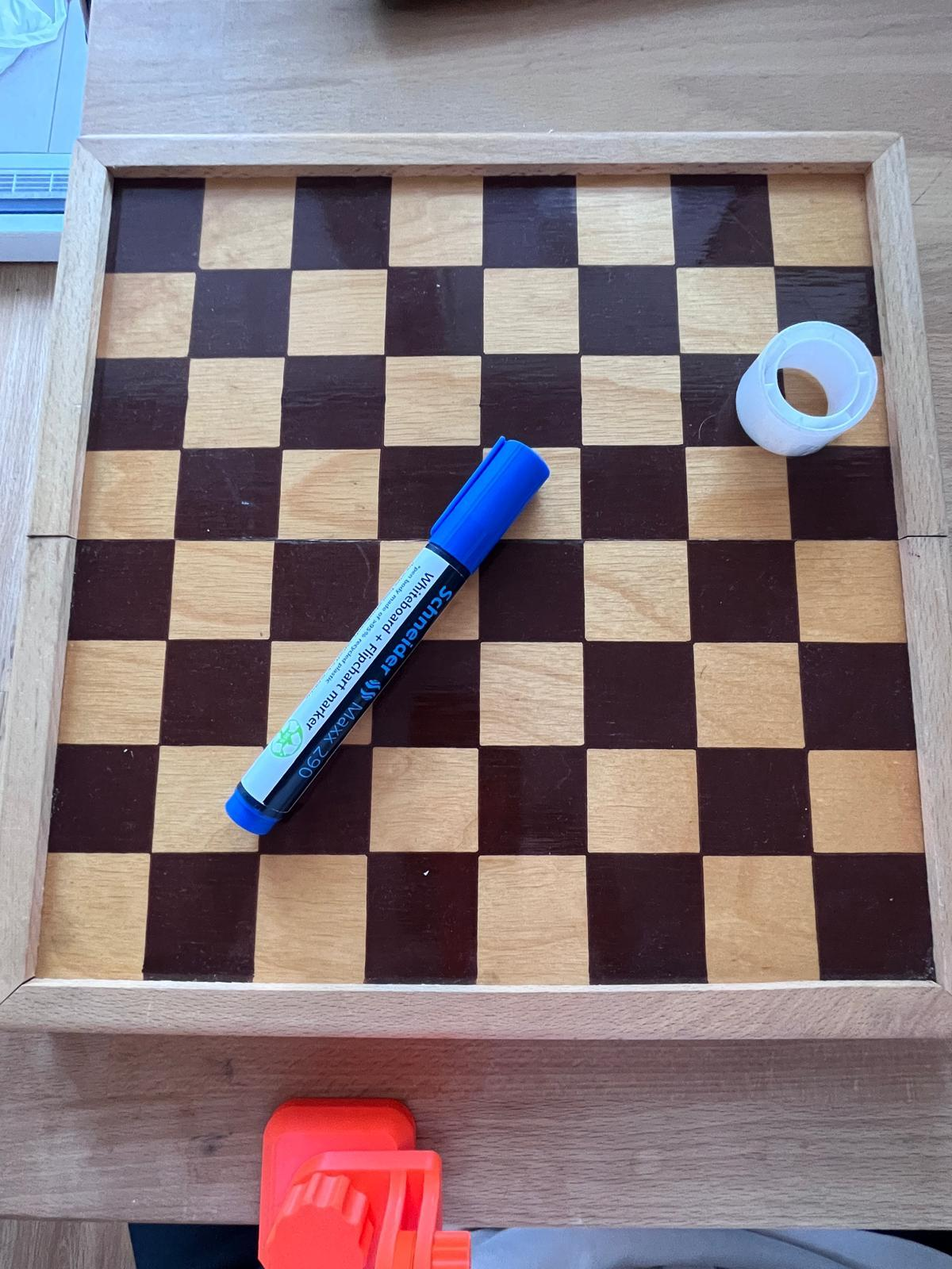marker: (224, 435, 555, 845)
tape: (728, 319, 876, 458)
